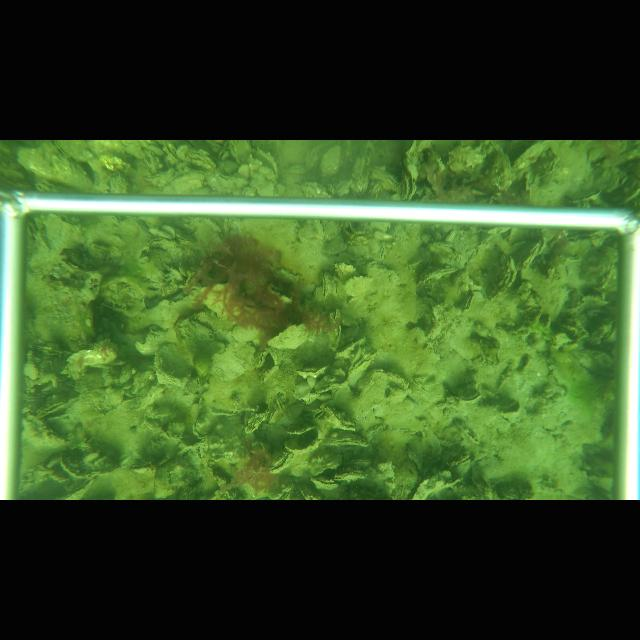Oyster-Closed: (13, 141, 95, 191), (265, 321, 312, 352), (511, 141, 548, 171), (319, 143, 343, 186), (418, 266, 457, 291), (168, 169, 206, 194), (53, 141, 98, 162), (324, 405, 358, 430), (60, 454, 91, 481), (323, 432, 374, 448), (522, 241, 542, 269), (254, 348, 269, 369), (47, 454, 61, 470), (143, 419, 159, 432), (311, 284, 322, 301), (332, 281, 340, 298)
Oyster-Open: (488, 254, 519, 304), (283, 421, 320, 455), (36, 393, 79, 419), (347, 354, 375, 390), (398, 161, 418, 202), (562, 188, 604, 204), (269, 450, 295, 473), (293, 364, 328, 379), (457, 389, 482, 405), (163, 140, 181, 162), (314, 478, 342, 491), (463, 294, 474, 314), (323, 279, 332, 299), (216, 148, 230, 160)
